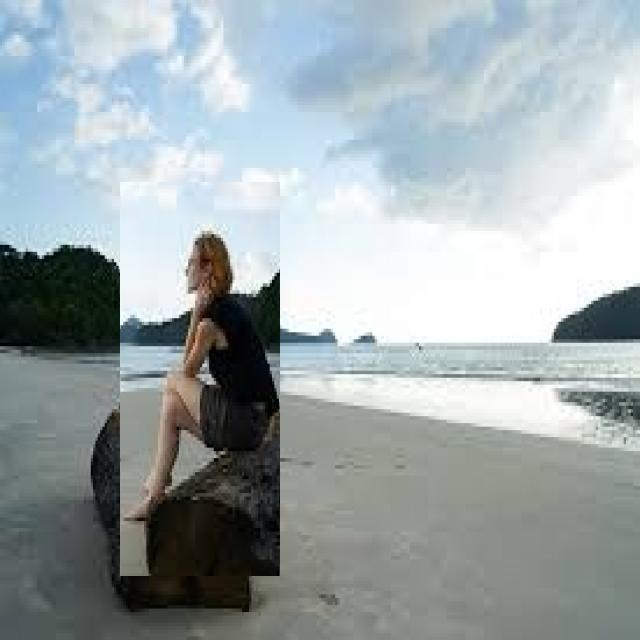NotFall: (105, 208, 338, 553)
